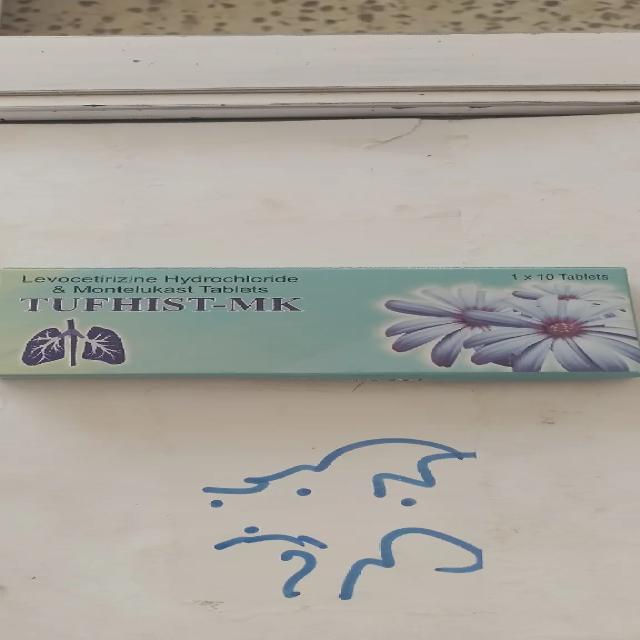drug-name: (16, 294, 304, 316)
